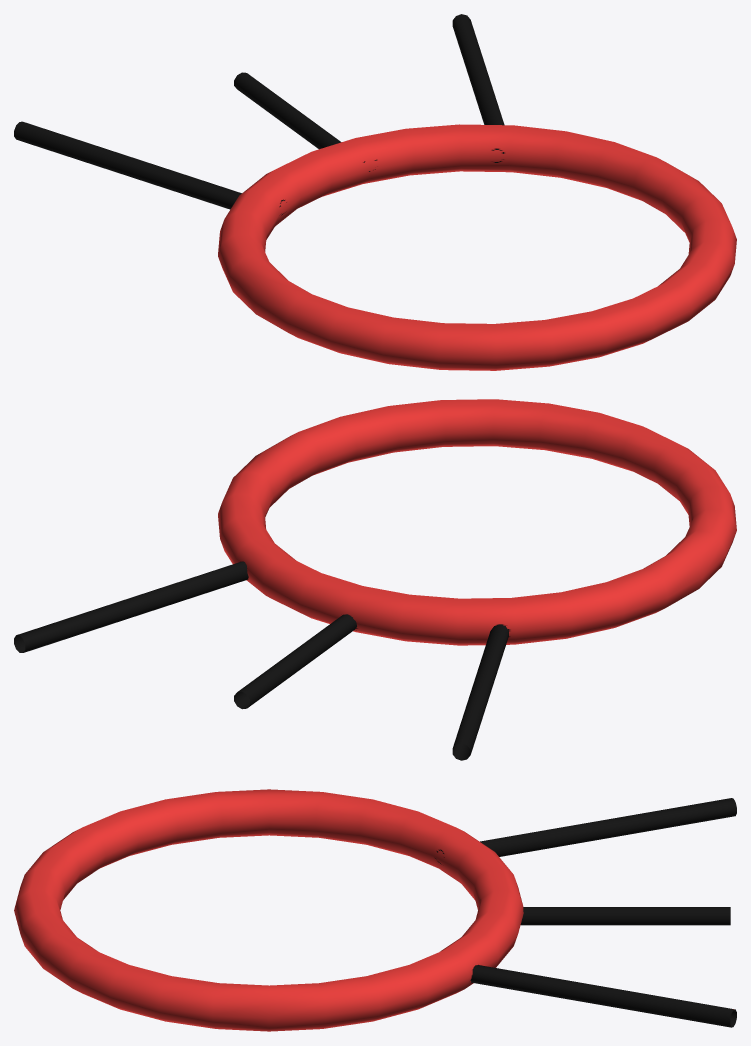
The model's file is basketring.fbx.
The picture shows the model from 3 angles, top to bottom: view 1: azimuth 30°, elevation 25°; view 2: azimuth 150°, elevation 25°; view 3: azimuth 270°, elevation 25°; orthographic projection.
Visible parts, largest first — view 1: Ring_low; view 2: Ring_low; view 3: Ring_low.
Part boxes in pixels (x1,y1,x2,y2): Ring_low: (14, 14, 736, 370); Ring_low: (14, 399, 736, 760); Ring_low: (14, 789, 736, 1031).
Bounding box in the file's own units: 127 × 10.81 × 177.
